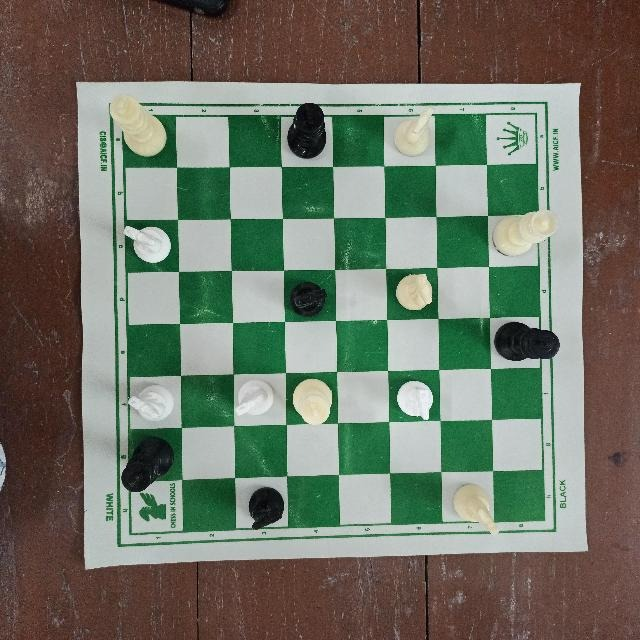black-king: (118, 435, 178, 497), (492, 317, 563, 367), (285, 98, 326, 162)
black-knight: (283, 275, 334, 320), (240, 486, 289, 531)
white-king: (105, 89, 169, 163), (288, 376, 334, 426)
white-knight: (452, 479, 504, 543), (116, 223, 182, 268), (391, 100, 439, 158), (384, 270, 438, 320), (126, 380, 178, 425), (393, 376, 442, 422), (231, 372, 276, 422)
white-queen: (490, 207, 559, 264)
